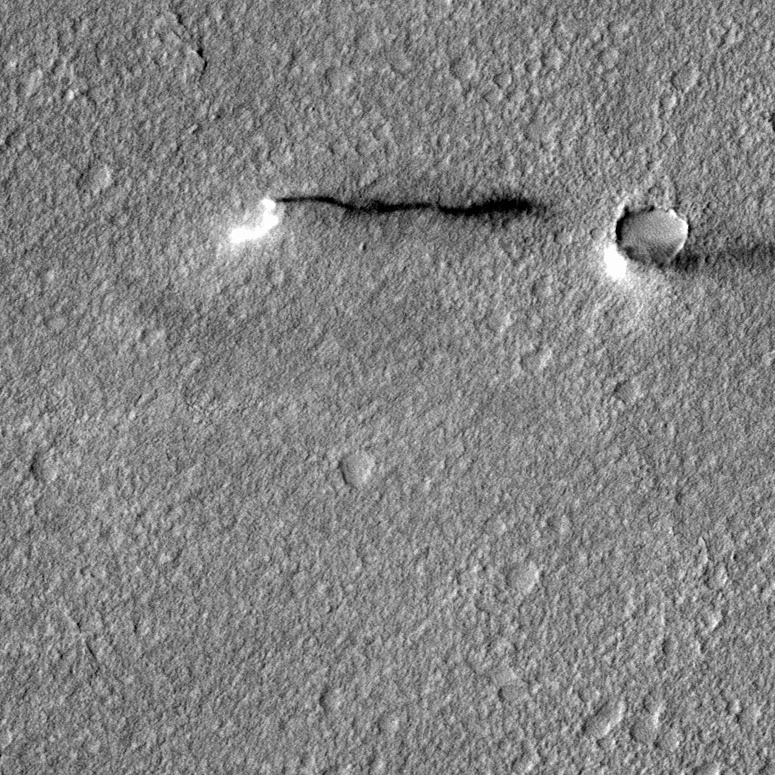dust_devil: (220, 184, 565, 257), (600, 236, 775, 283)
